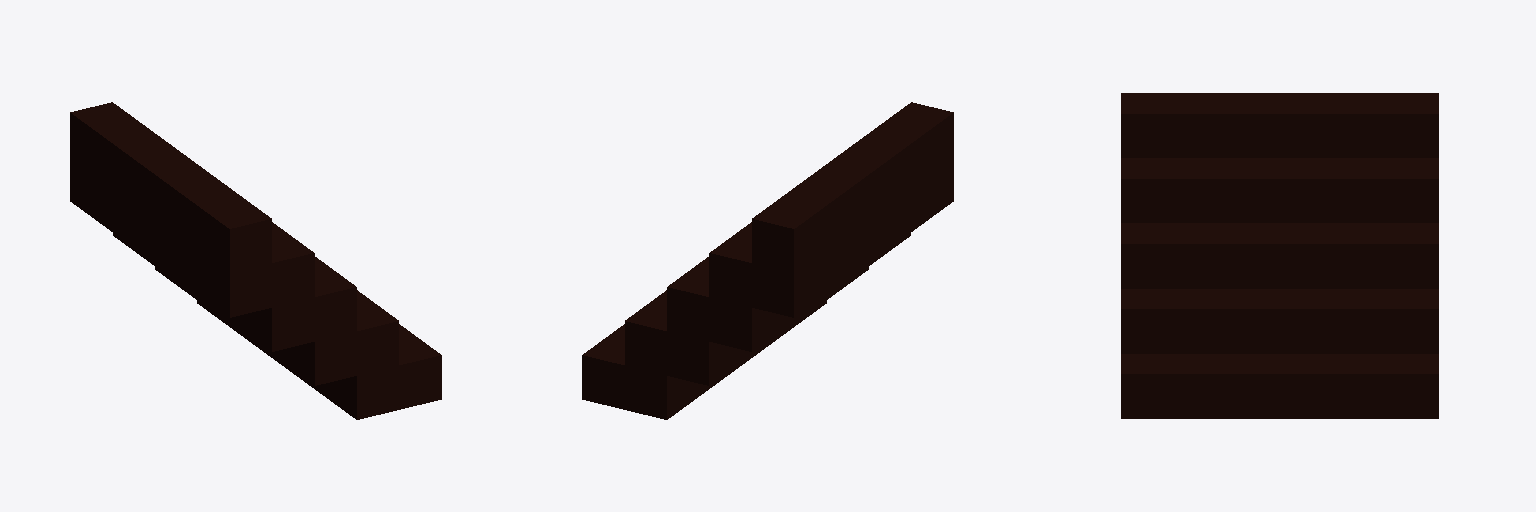
Rendered from stairs_segment.obj.
3 views of the same model, side by side, from view 1: azimuth 30°, elevation 25°; view 2: azimuth 150°, elevation 25°; view 3: azimuth 270°, elevation 25° (orthographic).
Parts seen in each view (by area): view 1: Plane; view 2: Plane; view 3: Plane.
Boxes of the visible parts, x1=… form: Plane: x1=70, y1=102, x2=441, y2=419; Plane: x1=582, y1=102, x2=953, y2=419; Plane: x1=1121, y1=93, x2=1438, y2=418.
Size of the model in its own units: 2 by 2 by 2.6.